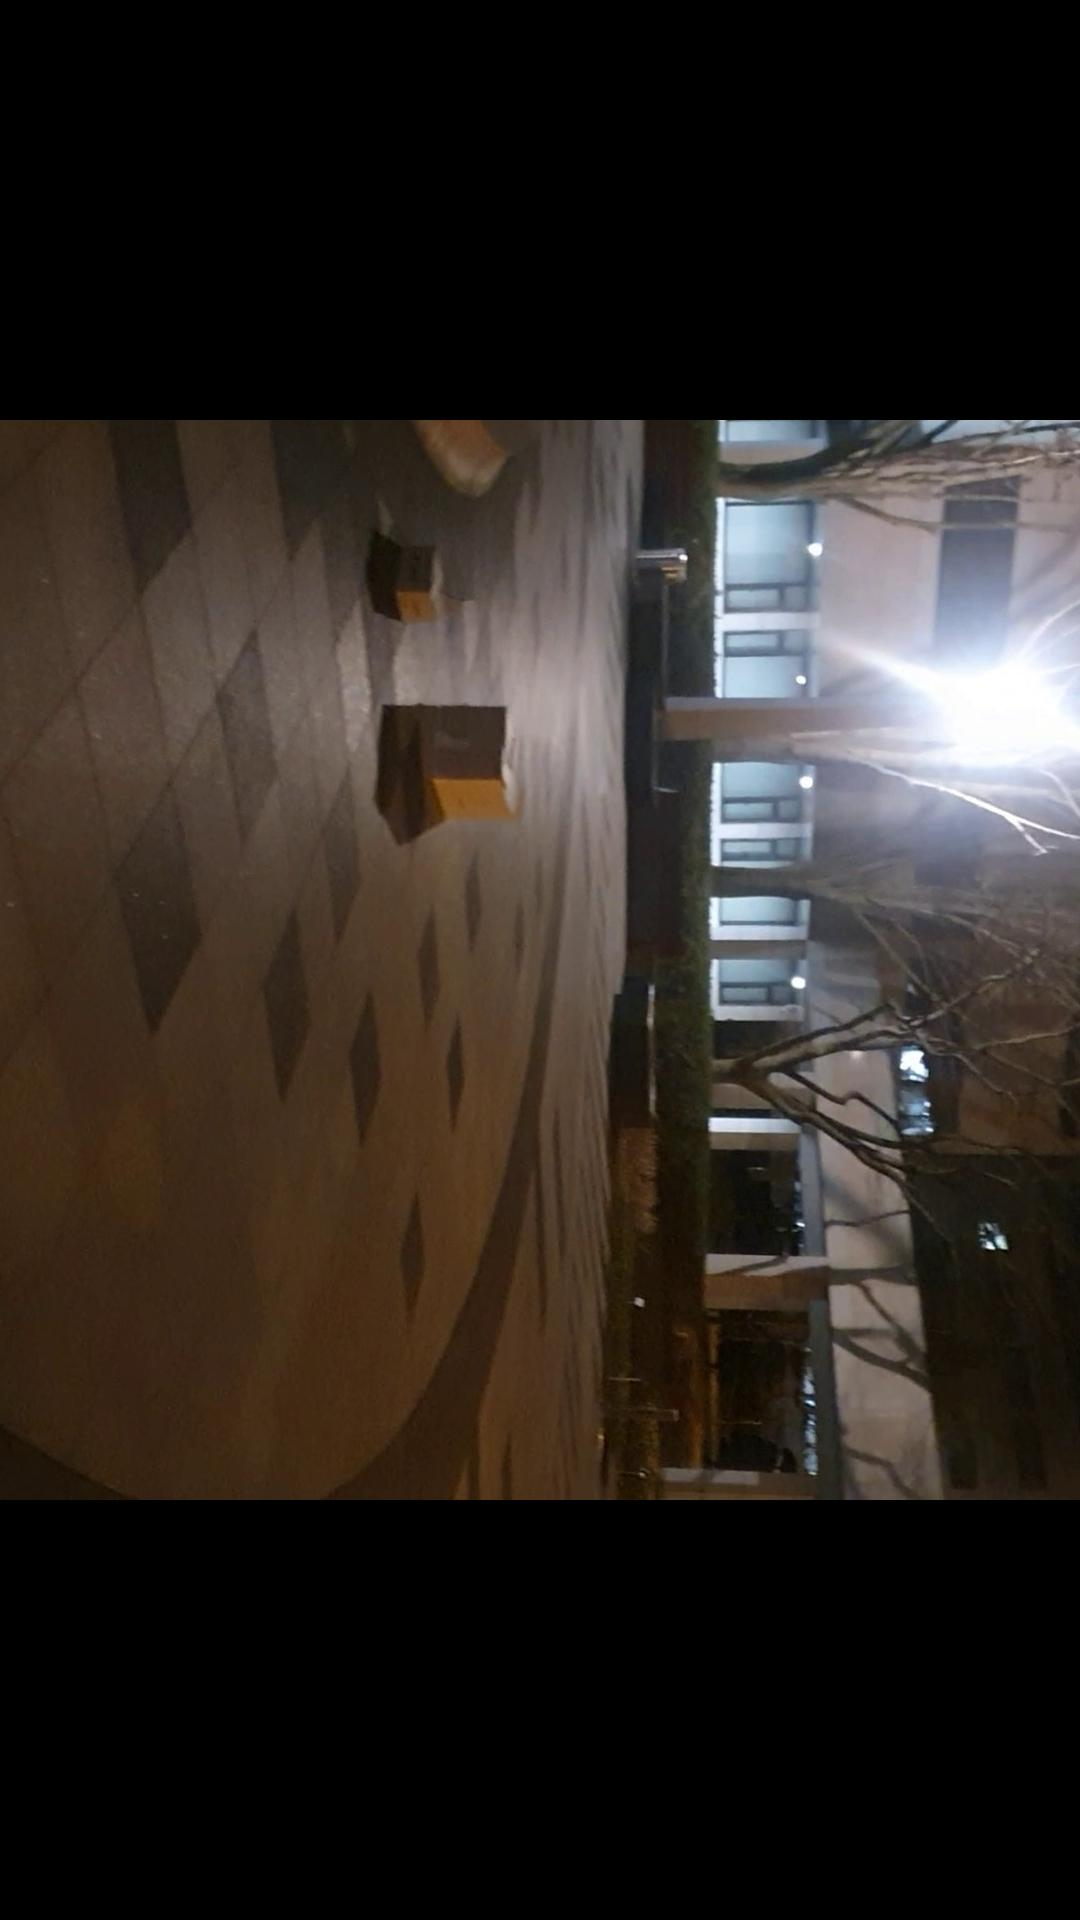Box: (415, 703, 535, 835), (367, 541, 452, 645)
